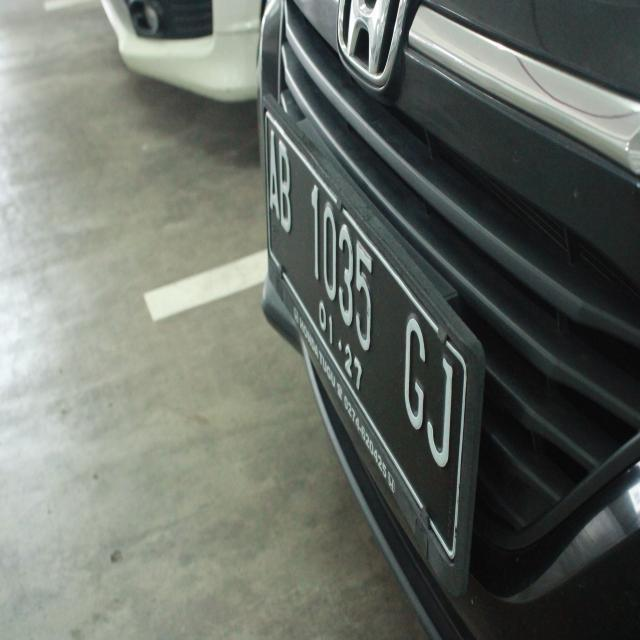0: (318, 198, 340, 303)
1: (300, 176, 323, 286)
3: (333, 212, 360, 340)
5: (347, 227, 380, 358)
A: (261, 121, 285, 225)
B: (271, 127, 296, 236)
G: (394, 296, 430, 436)
J: (422, 334, 462, 476)
